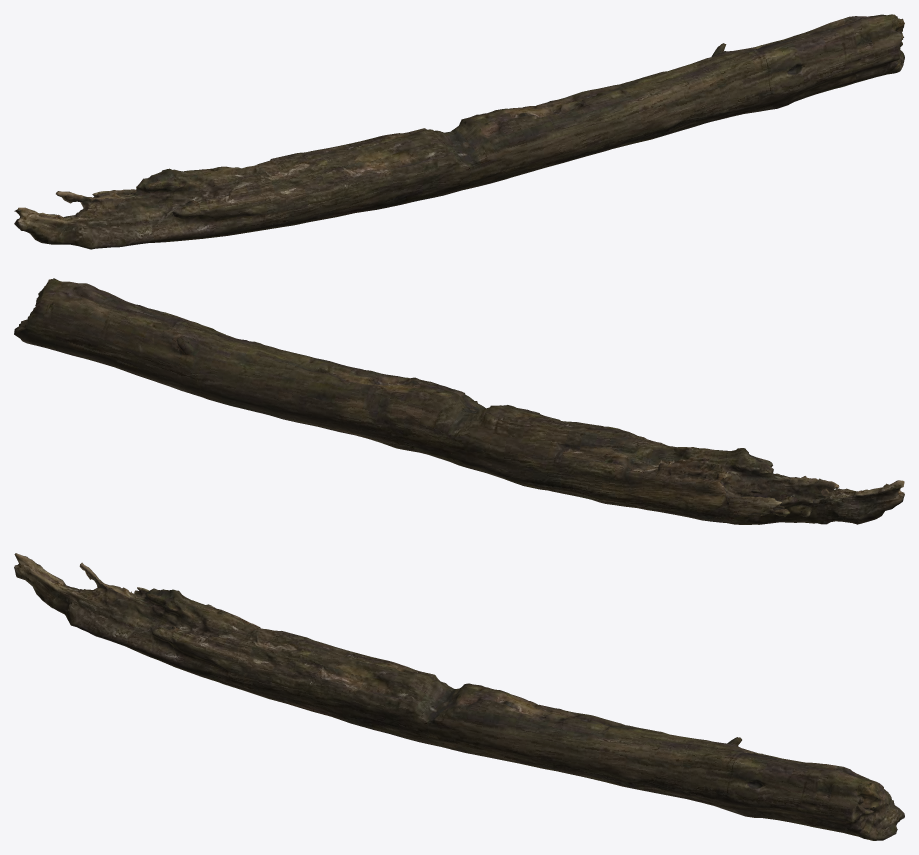
Rendered from grounded-deadwood-clear.glb.
3 views of the same model, one above another, from view 1: azimuth 30°, elevation 25°; view 2: azimuth 150°, elevation 25°; view 3: azimuth 330°, elevation 25° (orthographic).
Visible parts, largest first — view 1: grounded-deadwood-clear runtime mesh; view 2: grounded-deadwood-clear runtime mesh; view 3: grounded-deadwood-clear runtime mesh.
Part boxes in pixels (bbox=[...]): grounded-deadwood-clear runtime mesh: bbox=[14, 14, 904, 249]; grounded-deadwood-clear runtime mesh: bbox=[14, 278, 904, 524]; grounded-deadwood-clear runtime mesh: bbox=[14, 553, 904, 840].
Bounding box in the file's own units: 2.1 × 0.1992 × 0.1905.
1 material, 1 textured.
